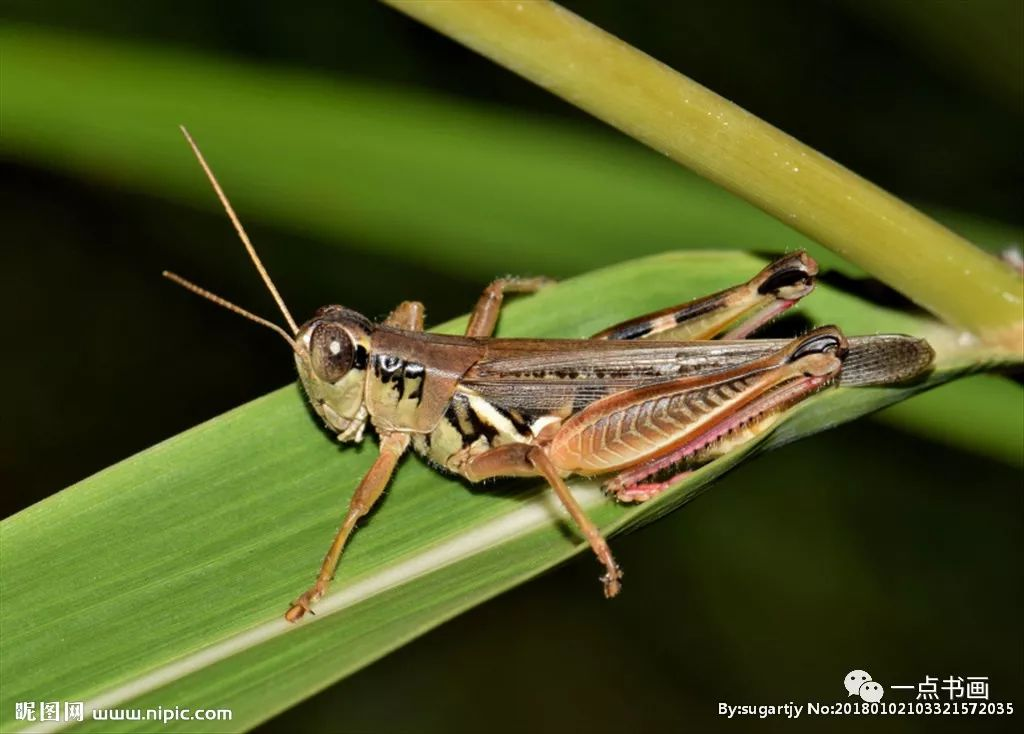huangchong: (194, 253, 908, 564)
